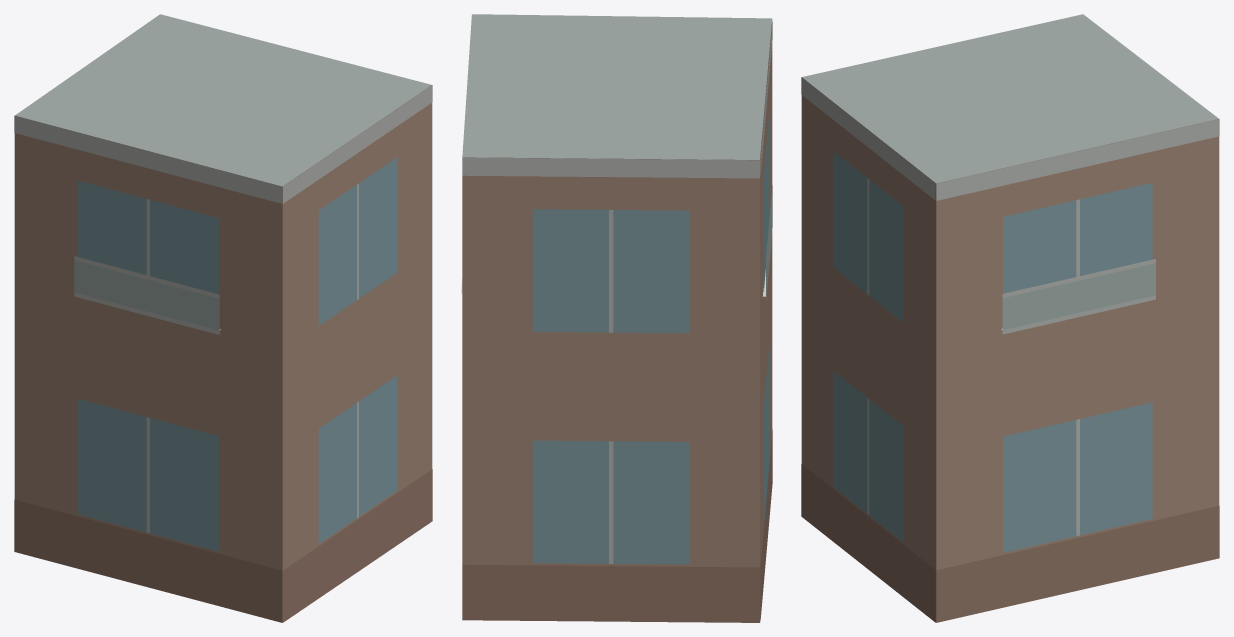
Rendered from survey-upis-32900737.glb.
The picture shows the model from 3 angles, left to right: view 1: azimuth 30°, elevation 25°; view 2: azimuth 150°, elevation 25°; view 3: azimuth 270°, elevation 25°; orthographic projection. The views are drawn at different scales.
Parts seen in each view (by area): view 1: survey-upis-32900737.tmp; view 2: survey-upis-32900737.tmp; view 3: survey-upis-32900737.tmp.
Part boxes in pixels (x1,y1,x2,y2): survey-upis-32900737.tmp: (14,14,432,622); survey-upis-32900737.tmp: (461,14,772,622); survey-upis-32900737.tmp: (801,14,1219,622).
Size of the model in its own units: 5.05 by 6.1 by 5.27.
